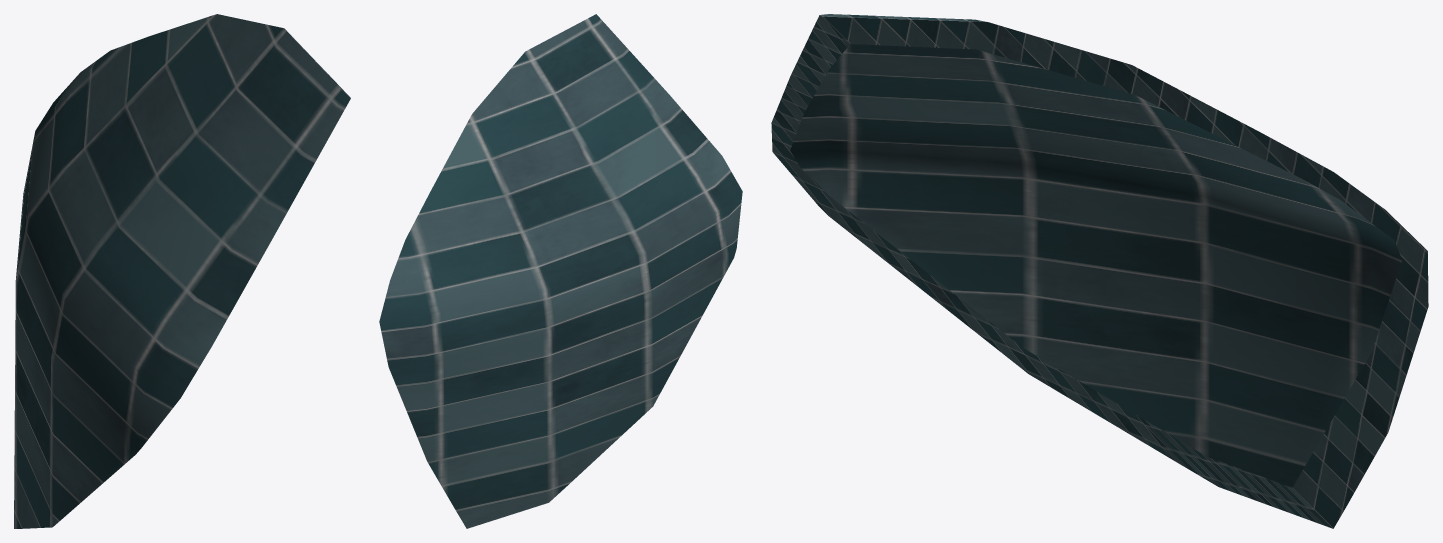
The picture shows the model from 3 angles, left to right: view 1: azimuth 30°, elevation 25°; view 2: azimuth 150°, elevation 25°; view 3: azimuth 270°, elevation 25°; orthographic projection. The views are drawn at different scales.
Visible parts, largest first — view 1: Cylinder_cell.009; view 2: Cylinder_cell.009; view 3: Cylinder_cell.009.
Boxes of the visible parts, x1=… form: Cylinder_cell.009: x1=14, y1=14, x2=350, y2=528; Cylinder_cell.009: x1=379, y1=14, x2=742, y2=528; Cylinder_cell.009: x1=771, y1=14, x2=1428, y2=528.
Bounding box in the file's own units: 0.3854 × 0.8774 × 0.9493.
Materials: 1 (1 with a texture image).
